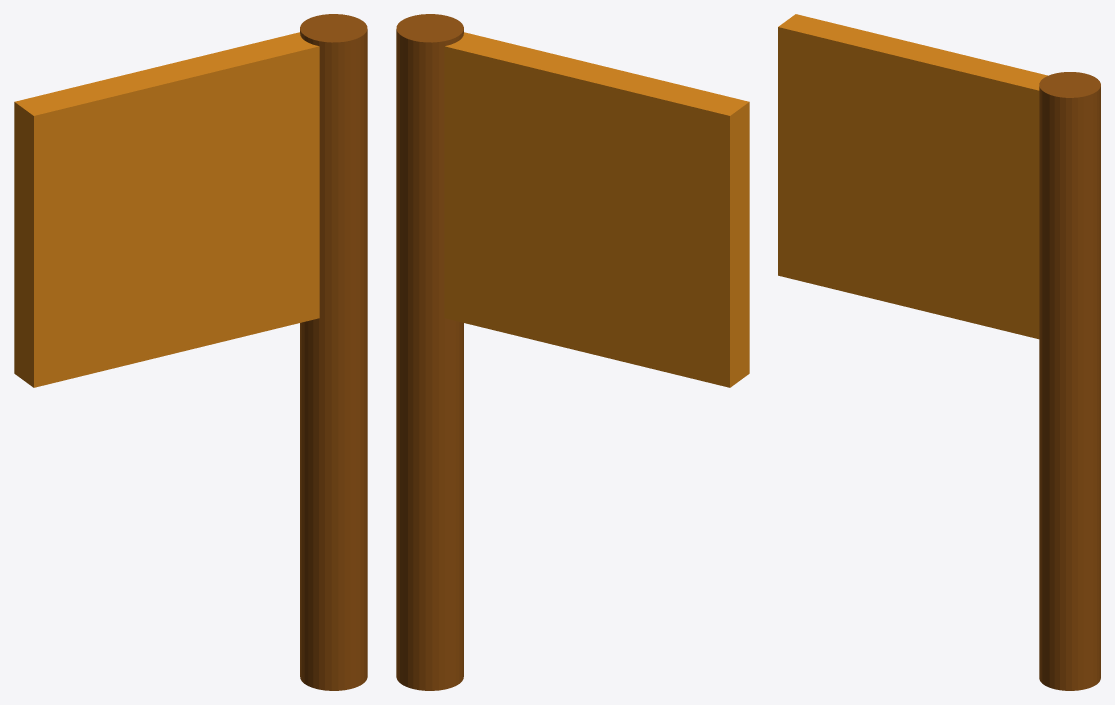
The model's file is Flag_buildable.fbx.
3 renders of one model, left to right at view 1: azimuth 30°, elevation 25°; view 2: azimuth 150°, elevation 25°; view 3: azimuth 330°, elevation 25°, orthographic. The views are drawn at different scales.
Parts seen in each view (by area): view 1: Cube, Cylinder; view 2: Cube, Cylinder; view 3: Cube, Cylinder.
Part boxes in pixels (x1,y1,x2,y2): Cube: (14,32,319,387); Cylinder: (300,14,367,690); Cube: (444,32,749,387); Cylinder: (396,14,463,690); Cube: (778,14,1047,339); Cylinder: (1039,72,1100,690).
Size of the model in its own units: 99.49 by 182 by 17.19.
